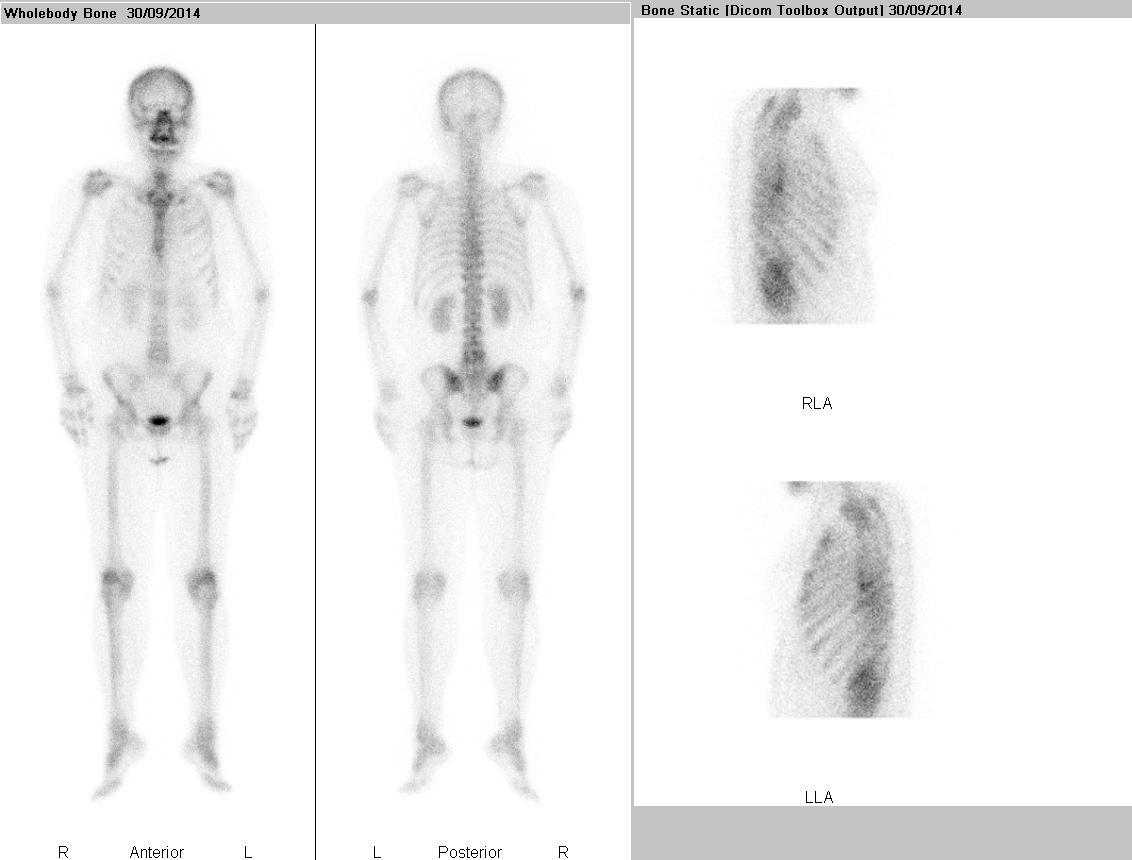person: (1, 26, 629, 860)
